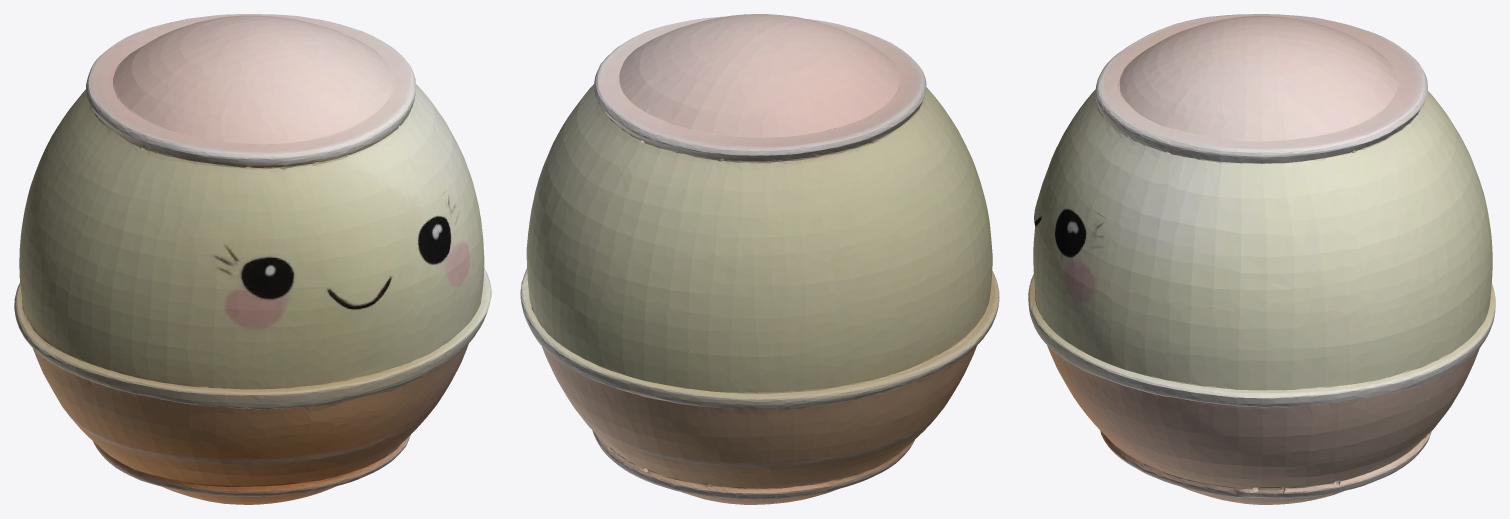
The model's file is ball.glb.
3 renders of one model, left to right at view 1: azimuth 30°, elevation 25°; view 2: azimuth 150°, elevation 25°; view 3: azimuth 270°, elevation 25°, orthographic.
Parts seen in each view (by area): view 1: geometry_0; view 2: geometry_0; view 3: geometry_0.
Boxes of the visible parts, box(x1,y1,x2,y2) form: geometry_0: box(14, 14, 491, 504); geometry_0: box(520, 14, 999, 504); geometry_0: box(1028, 14, 1495, 504).
Size of the model in its own units: 0.9705 by 0.9928 by 0.9343.
Materials: 1 (1 with a texture image).
